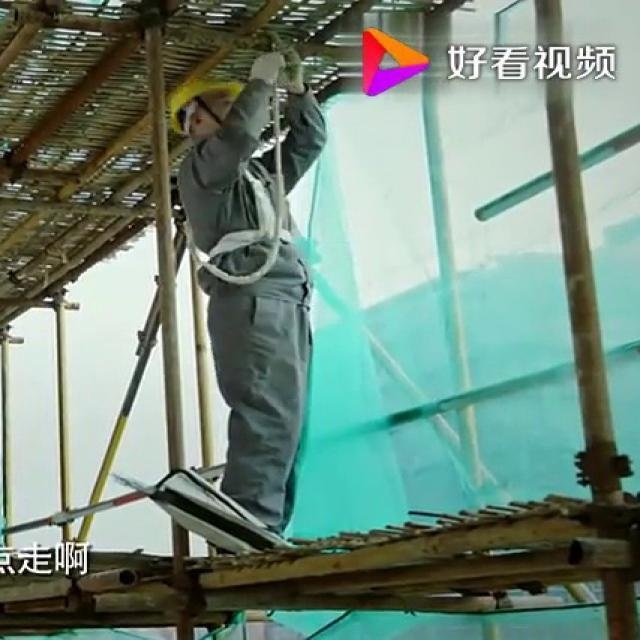Arnes_seguridad: (174, 143, 301, 264)
